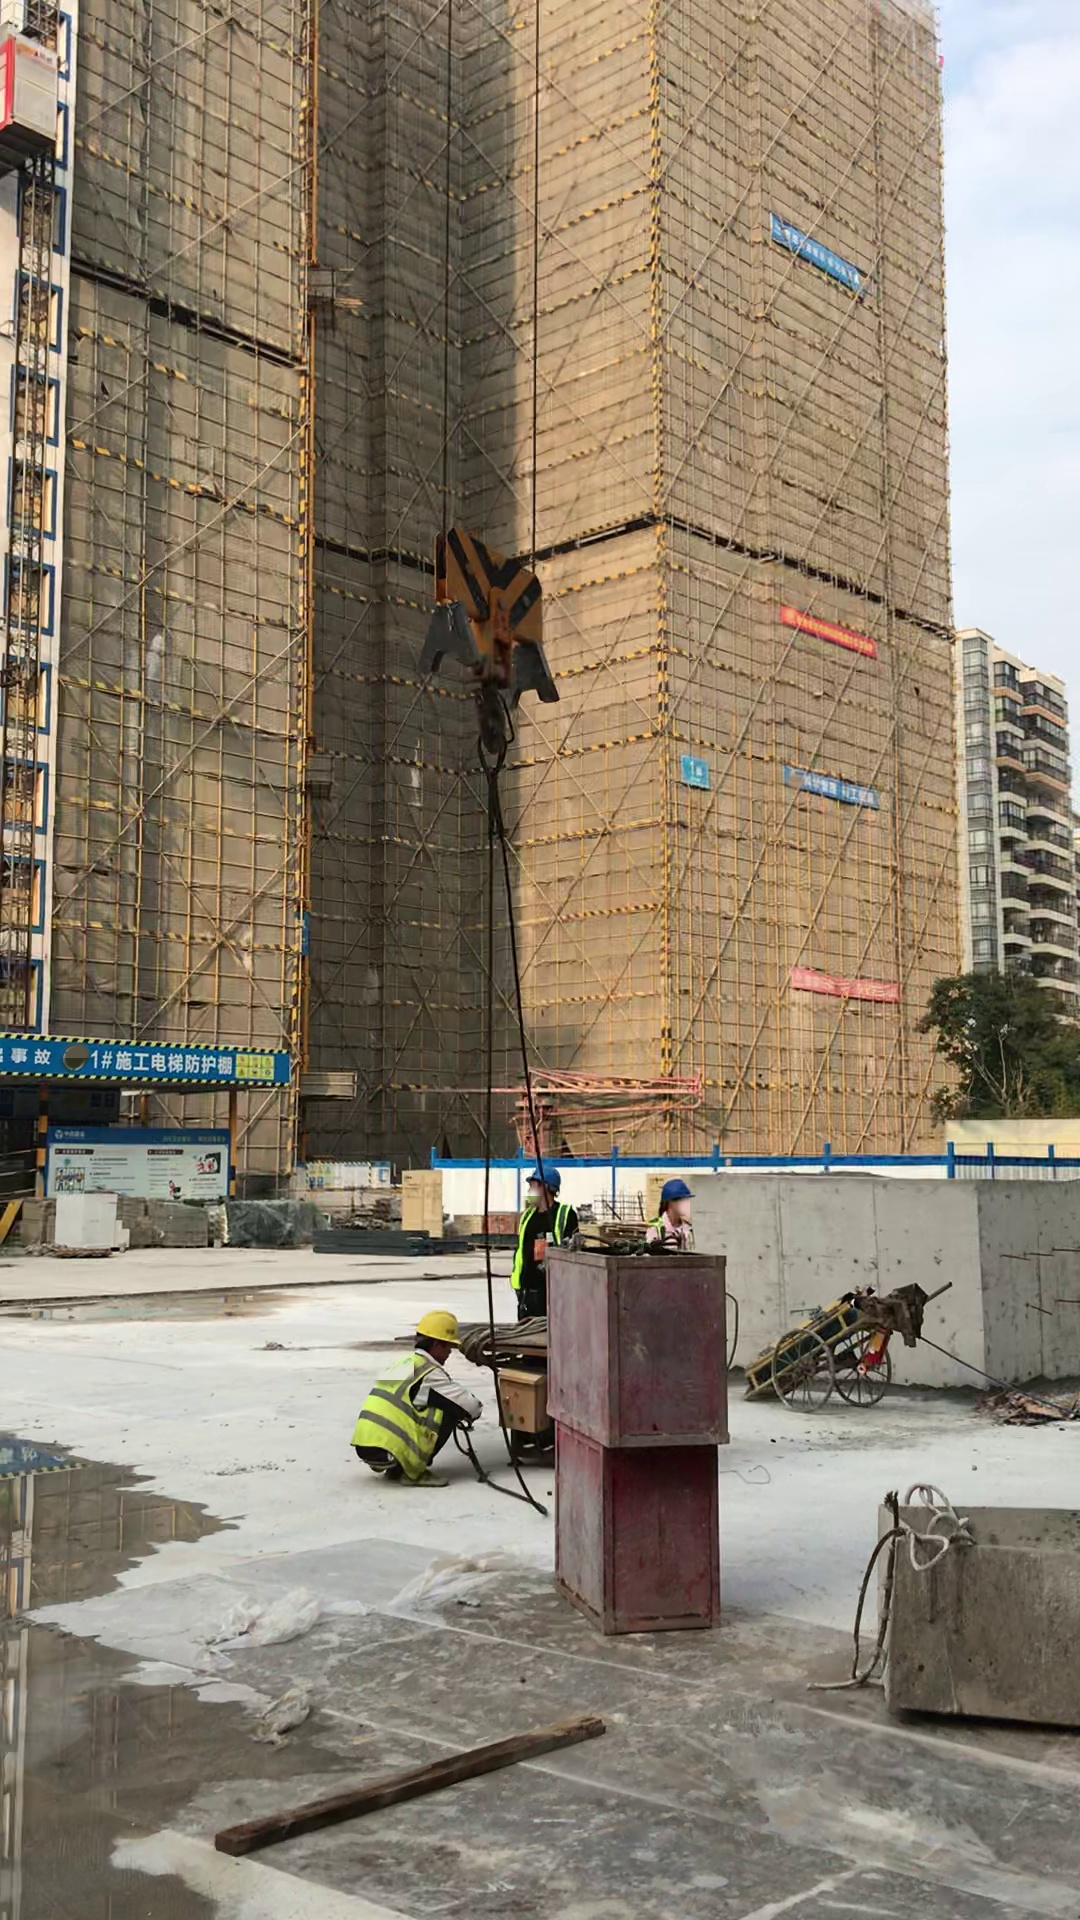brick: (50, 1188, 127, 1253)
ebox: (493, 1369, 556, 1448)
fence: (1, 1137, 41, 1207)
handcart: (743, 1279, 977, 1431)
helmet: (409, 1303, 468, 1349), (522, 1158, 570, 1195), (655, 1176, 706, 1208)
hook: (394, 499, 639, 814)
hopper: (828, 1456, 1080, 1767)
person: (343, 1288, 511, 1517), (501, 1134, 626, 1369), (638, 1171, 715, 1269)
slogan: (1, 1009, 298, 1116), (33, 1114, 236, 1211), (761, 211, 882, 305), (778, 956, 916, 1020), (767, 758, 891, 820), (776, 597, 887, 665), (653, 743, 721, 803), (299, 1160, 394, 1194)
vest: (348, 1348, 463, 1486), (507, 1203, 579, 1285), (647, 1211, 708, 1258)
wood: (116, 1192, 212, 1249), (22, 1196, 55, 1242)
